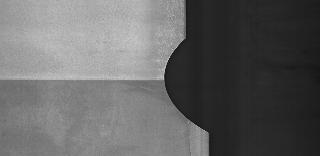welding line: (1, 73, 168, 87)
